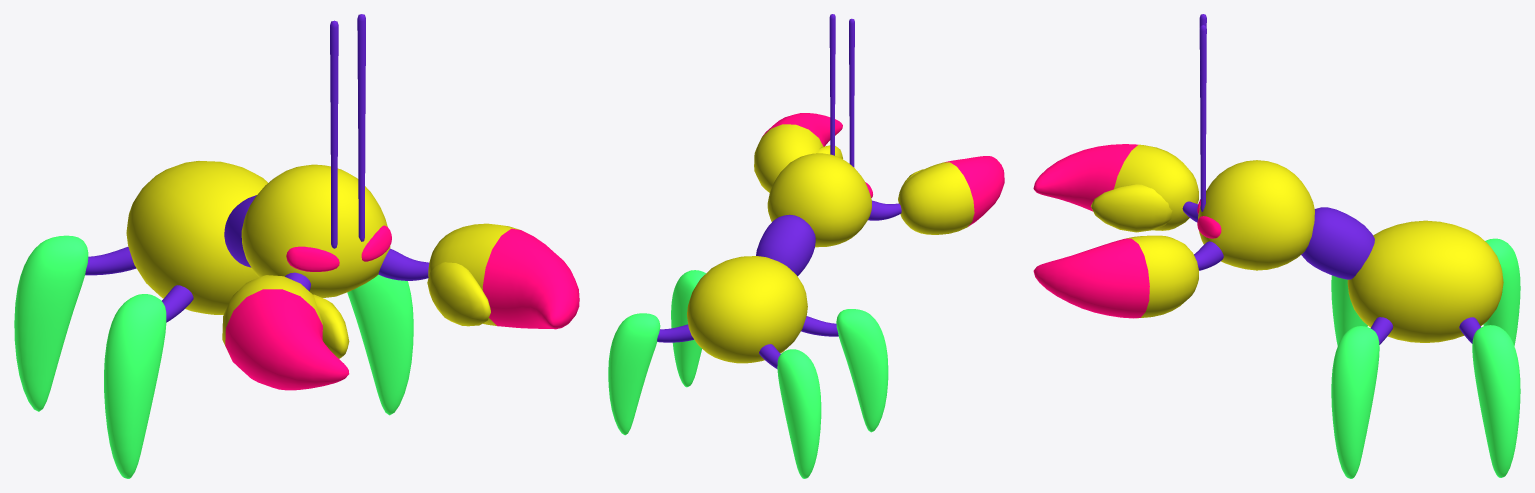
The model's file is Xormite_Melee.fbx.
3 renders of one model, left to right at view 1: azimuth 30°, elevation 25°; view 2: azimuth 150°, elevation 25°; view 3: azimuth 270°, elevation 25°, orthographic. The views are drawn at different scales.
Visible parts, largest first — view 1: pHead, pLegs_F, pBody, pLegs_B, pClaw_Thumbs, pAntennae, pEyes, pNeck; view 2: pHead, pBody, pLegs_B, pLegs_F, pNeck, pAntennae; view 3: pHead, pBody, pLegs_B, pLegs_F, pNeck, pClaw_Thumbs, pAntennae.
Boxes of the visible parts, x1,y1,x2,y2 form: pHead: (222, 164, 579, 390); pLegs_F: (104, 274, 413, 478); pBody: (126, 161, 267, 314); pLegs_B: (14, 235, 136, 411); pClaw_Thumbs: (313, 262, 490, 358); pAntennae: (330, 14, 365, 248); pEyes: (286, 225, 391, 271); pNeck: (224, 195, 256, 267); pHead: (754, 113, 1004, 247); pBody: (687, 256, 807, 363); pLegs_B: (608, 313, 821, 478); pLegs_F: (671, 270, 888, 432); pNeck: (756, 214, 815, 276); pAntennae: (829, 14, 854, 167); pHead: (1033, 144, 1314, 318); pBody: (1347, 220, 1503, 342); pLegs_B: (1459, 238, 1520, 477); pLegs_F: (1331, 275, 1393, 478); pNeck: (1301, 207, 1374, 279); pClaw_Thumbs: (1091, 184, 1172, 232); pAntennae: (1199, 14, 1206, 211).
Size of the model in its own units: 239 by 353 by 383.
